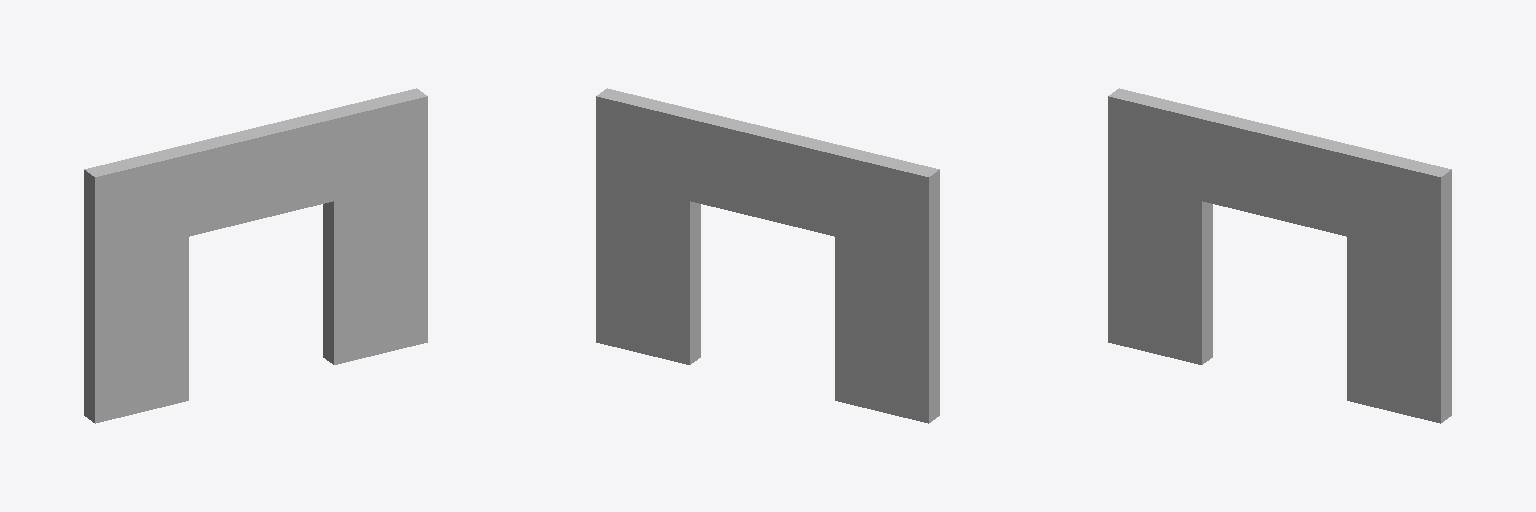
Rendered from doorFrame.obj.
The picture shows the model from 3 angles: view 1: azimuth 30°, elevation 25°; view 2: azimuth 150°, elevation 25°; view 3: azimuth 330°, elevation 25°; orthographic projection.
Parts seen in each view (by area): view 1: doorFrame; view 2: doorFrame; view 3: doorFrame.
Boxes of the visible parts, <box> form: doorFrame: <box>84,88,427,423</box>; doorFrame: <box>596,88,939,423</box>; doorFrame: <box>1108,88,1451,423</box>.
Bounding box in the file's own units: 45.61 × 32.25 × 2.6.